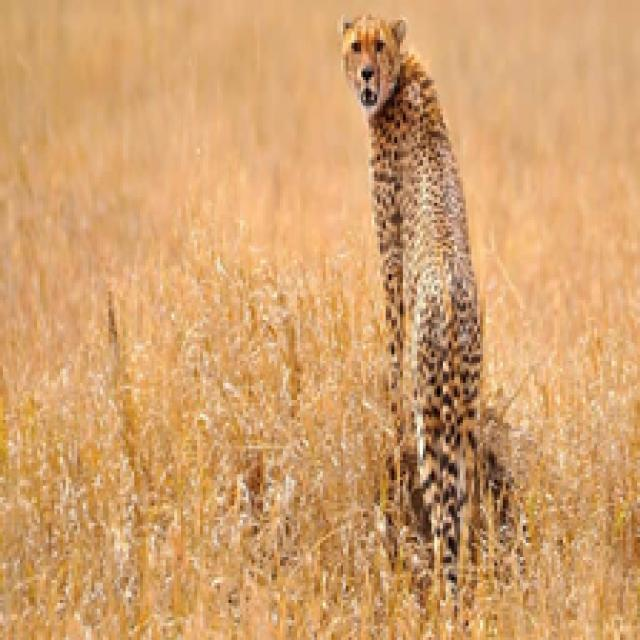cheetah: (309, 9, 578, 545)
